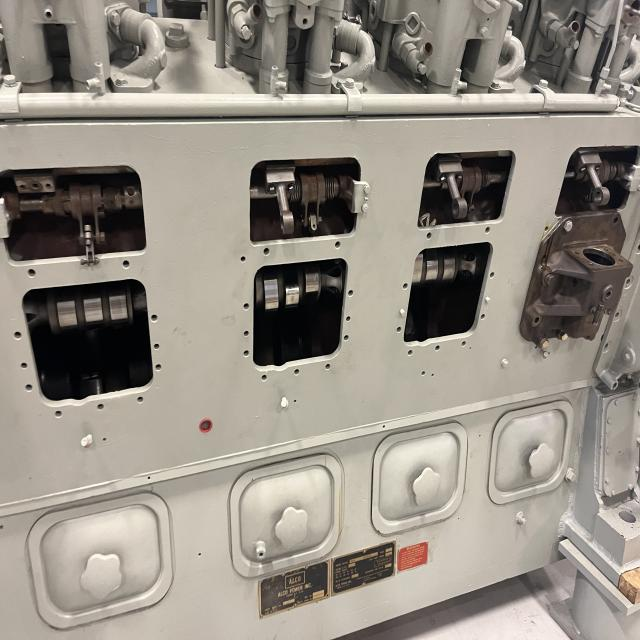Oil Leak: (320, 451, 345, 557), (536, 223, 557, 300)
